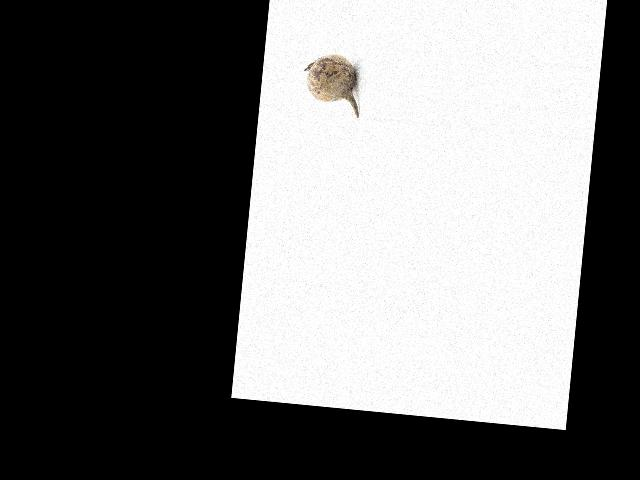beet: (300, 51, 364, 117)
